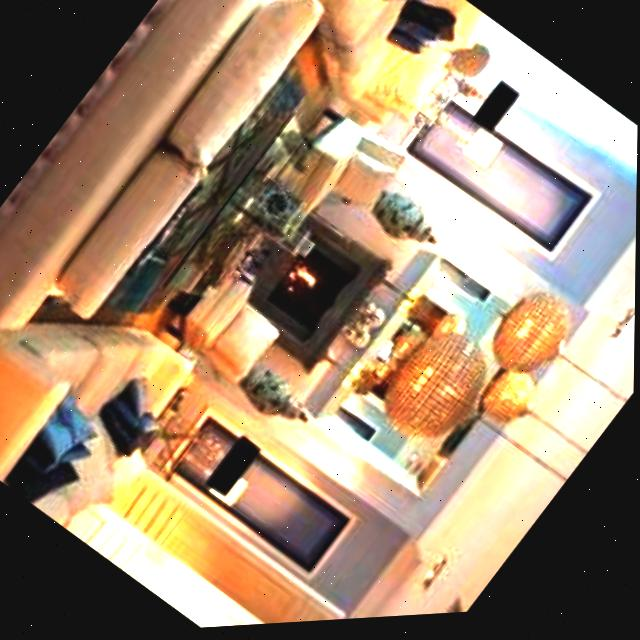Fire: (277, 255, 333, 311)
